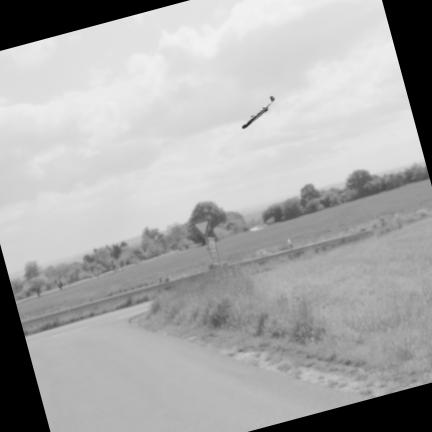Shahed: (242, 96, 273, 127)
